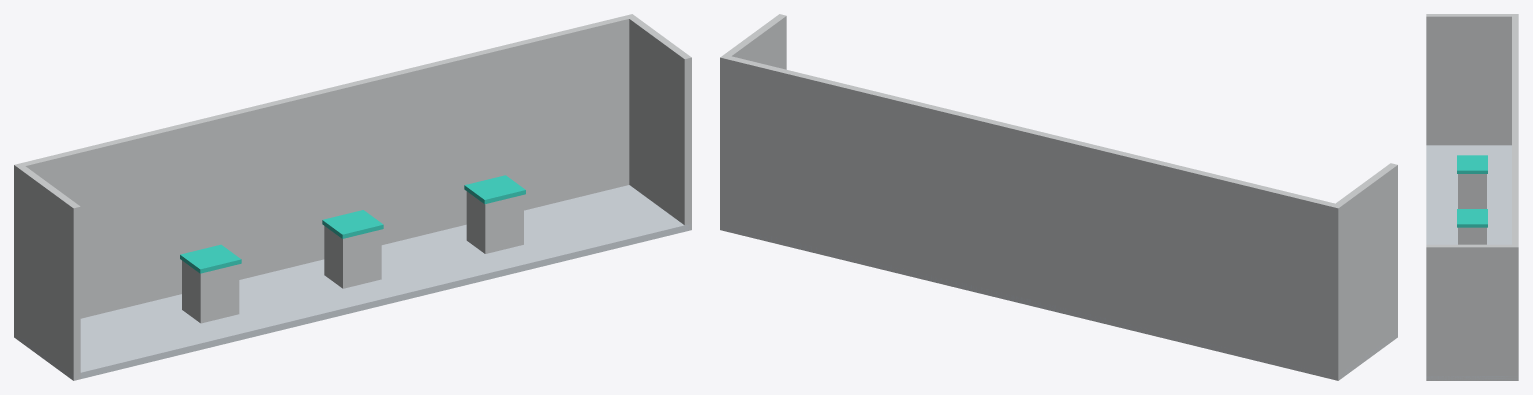
3 renders of one model, left to right at view 1: azimuth 30°, elevation 25°; view 2: azimuth 150°, elevation 25°; view 3: azimuth 270°, elevation 25°, orthographic. The views are drawn at different scales.
Visible parts, largest first — view 1: Exhibition Booth Concept; view 2: Exhibition Booth Concept; view 3: Exhibition Booth Concept.
Part boxes in pixels (box(x1,y1,x2,y2)): Exhibition Booth Concept: box(14, 14, 691, 380); Exhibition Booth Concept: box(720, 14, 1397, 380); Exhibition Booth Concept: box(1426, 14, 1518, 380).
Bounding box in the file's own units: 12 × 3.2 × 2.
